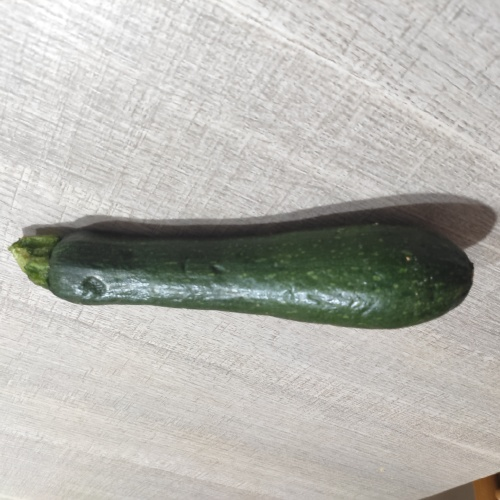zucchine: (9, 218, 478, 334)
